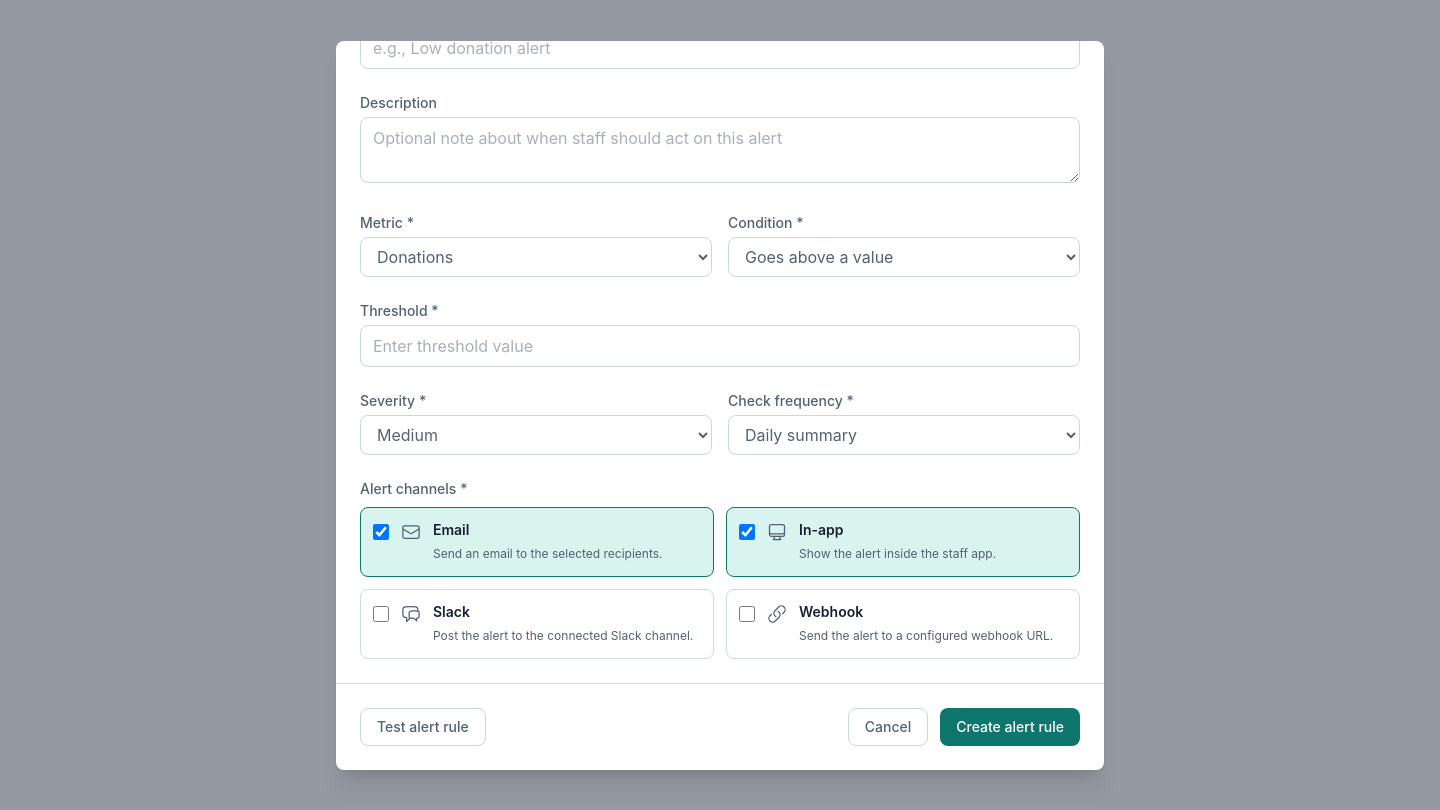
Scenario: AlertConfigModal › validates required fields before submitting
The width and height of the screenshot is (1440, 810).
(page scrolled)
Click the button "Create alert rule".
click(1010, 726)  # box [940,708,1080,746]
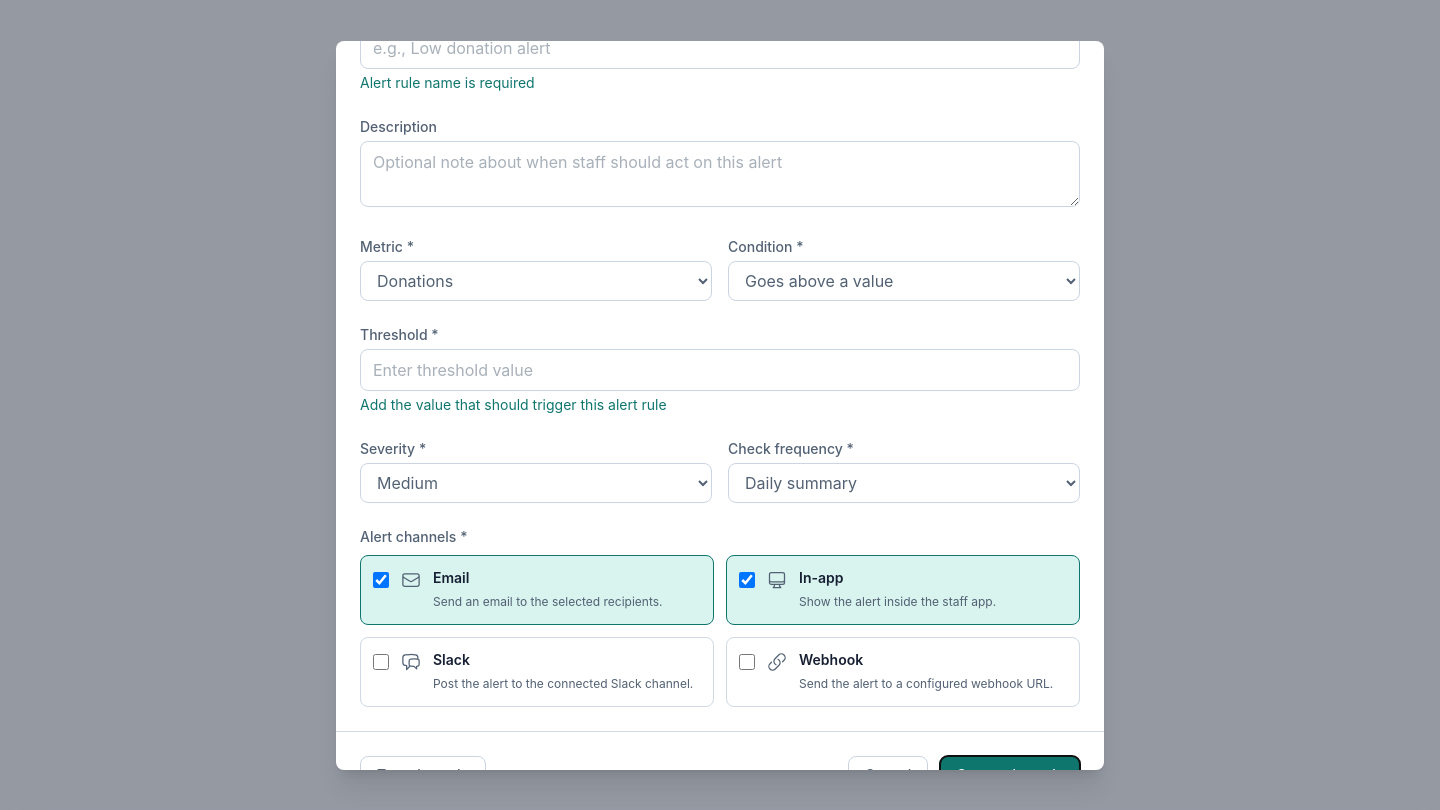
Now the text "Alert rule name is required" is shown, box [360,74,535,90]
